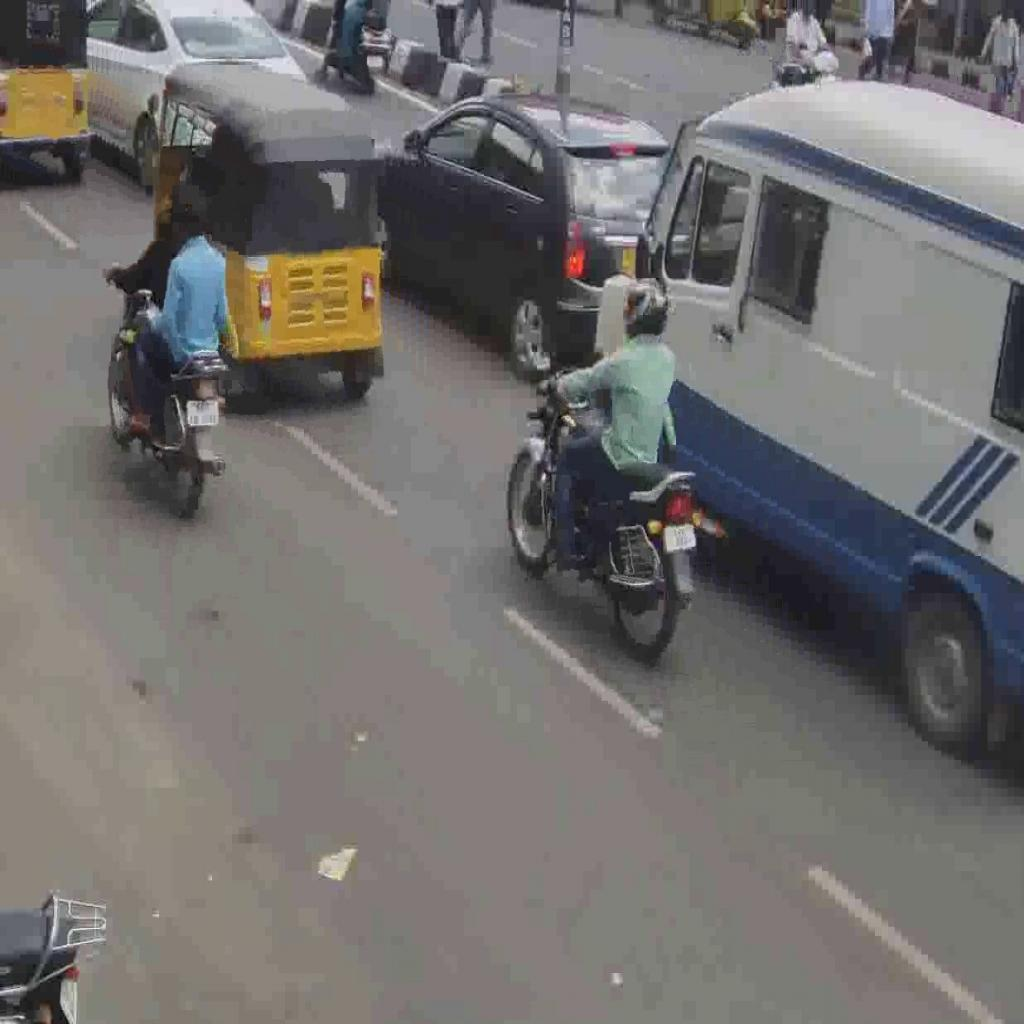bike: (504, 362, 706, 662), (104, 263, 230, 515)
helmet: (622, 272, 672, 342)
lisc: (664, 522, 697, 552), (186, 398, 220, 426)
no_helmet: (174, 181, 210, 241)
rider: (537, 273, 678, 579), (128, 181, 231, 442)
